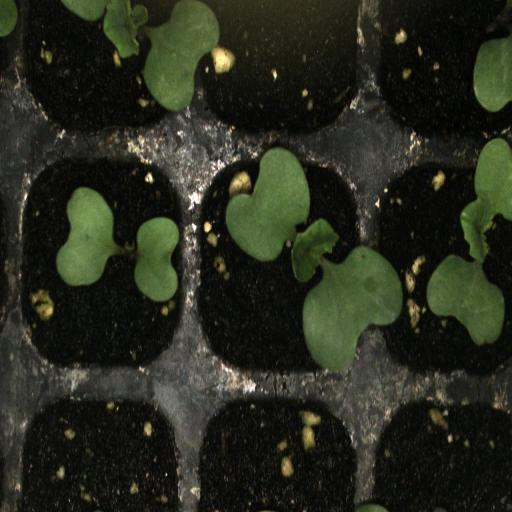noseedling: (195, 0, 371, 138), (7, 385, 190, 512), (198, 379, 366, 512)
seedling: (7, 140, 194, 385), (192, 141, 372, 387), (373, 143, 512, 384), (15, 0, 196, 139)
